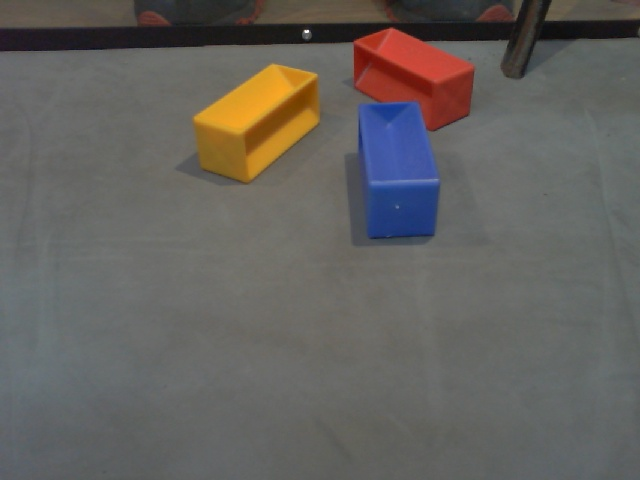BlueSample: (354, 97, 444, 247)
RedSample: (346, 22, 475, 133)
YellowSample: (189, 63, 325, 186)
